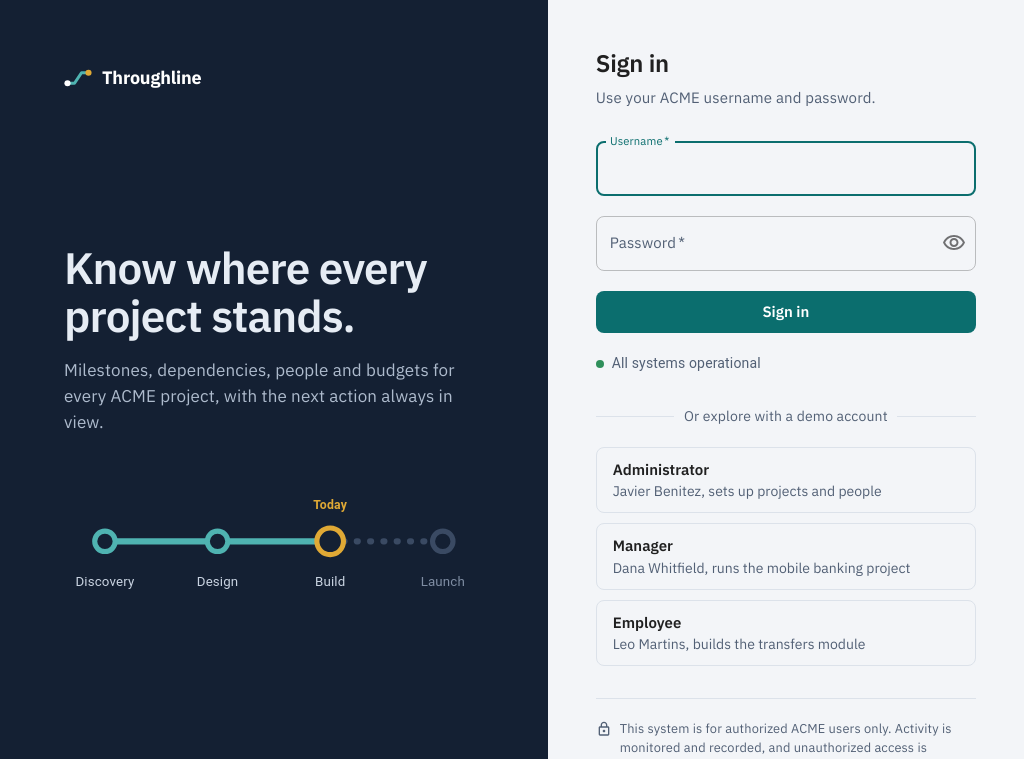
Scenario: Login page › shows the server's message when the password is wrong
Type "admin" into the field labelled "Username *" at (786, 169), box [596,142,976,196]
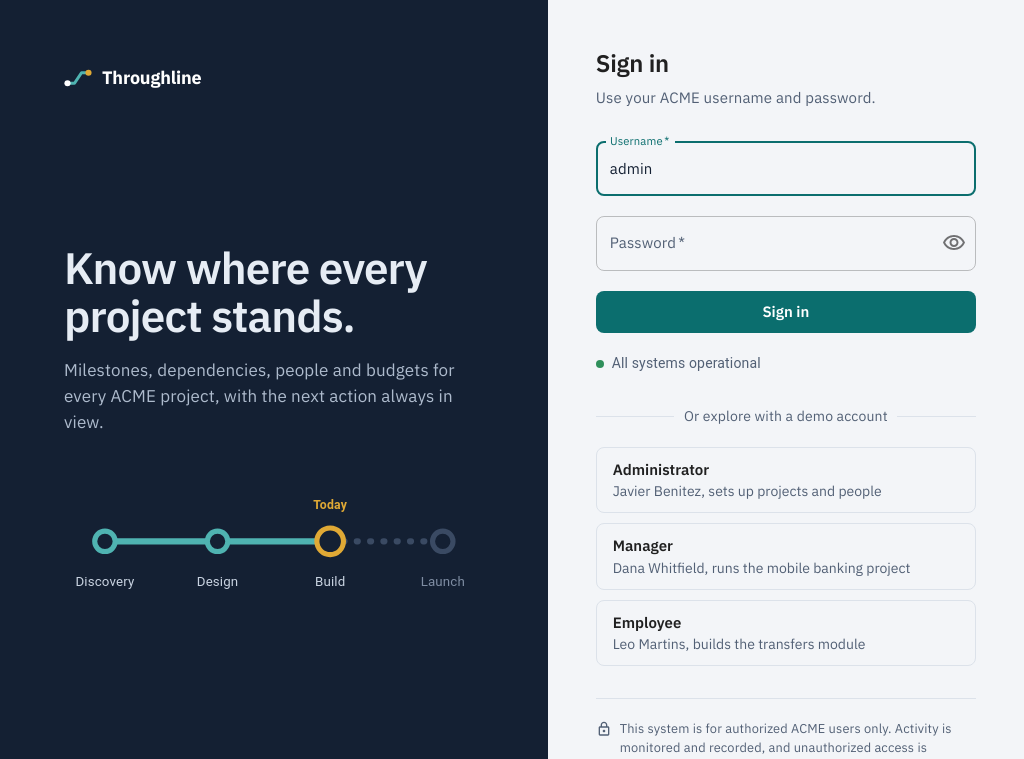
Type "wrong-password1" into the password field labelled "Password *" at (761, 244), box [596,216,926,271]
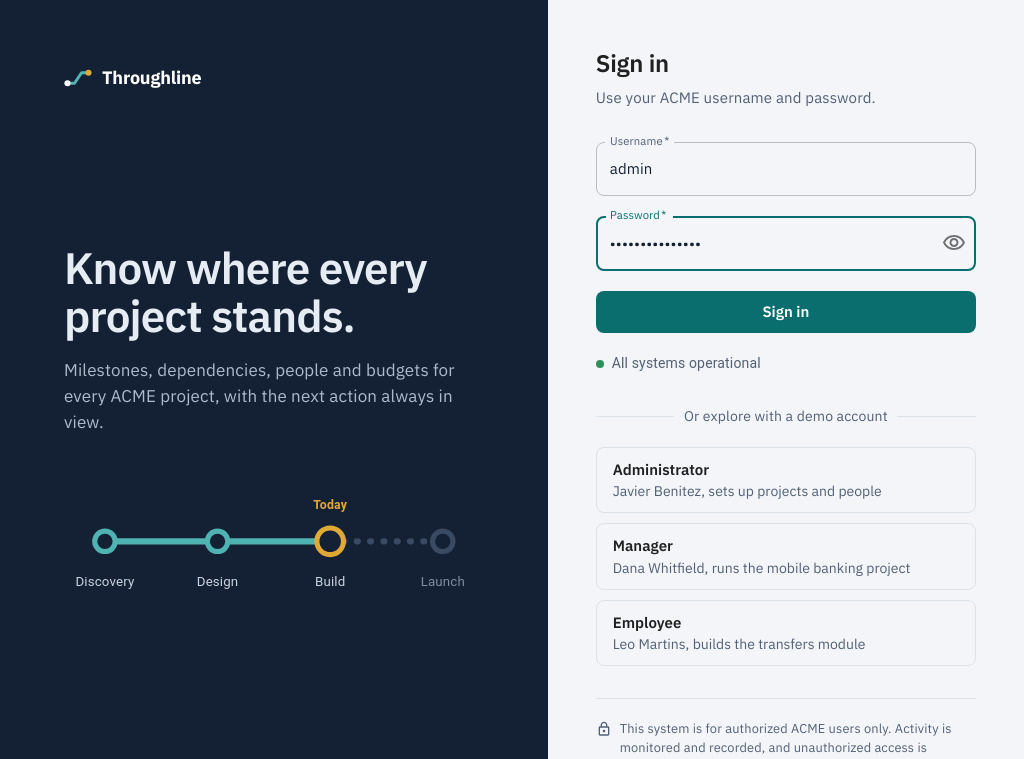
Click the button "Sign in" at (786, 312), box [596,291,976,333]
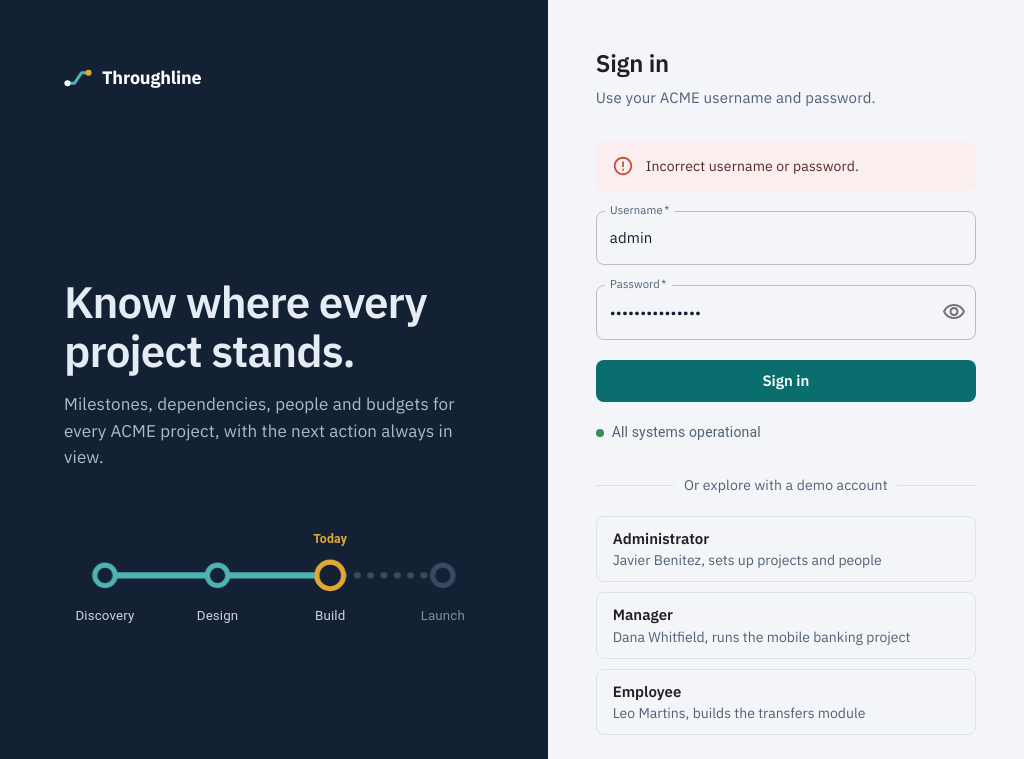
Result: the text "Incorrect username or password." is shown at [646,157,859,175]
